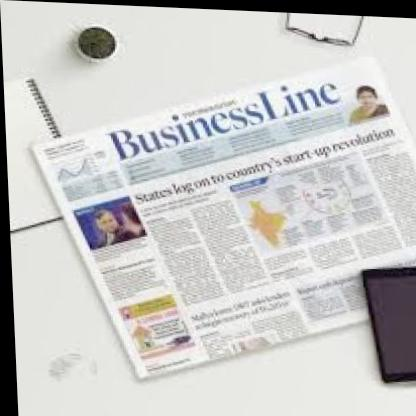Paper: (0, 3, 416, 416)
